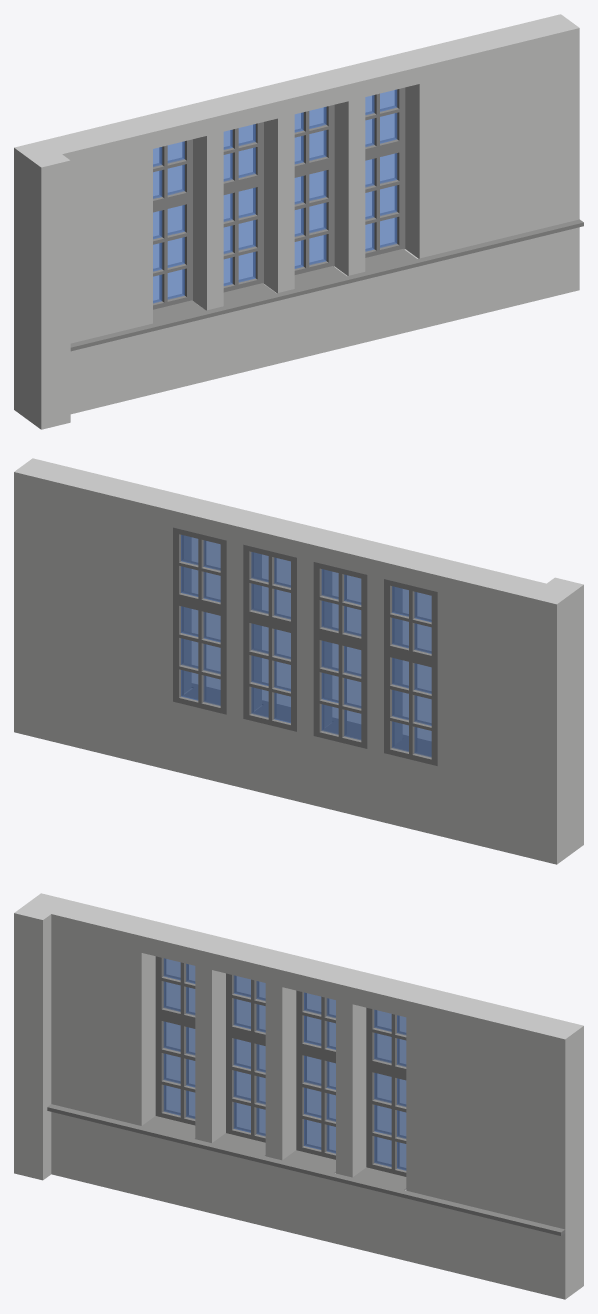
Rendered from Wand.gltf.
3 views of the same model, one above another, from view 1: azimuth 30°, elevation 25°; view 2: azimuth 150°, elevation 25°; view 3: azimuth 330°, elevation 25° (orthographic).
Bounding box in the file's own units: 6.55 × 3 × 0.5664.
